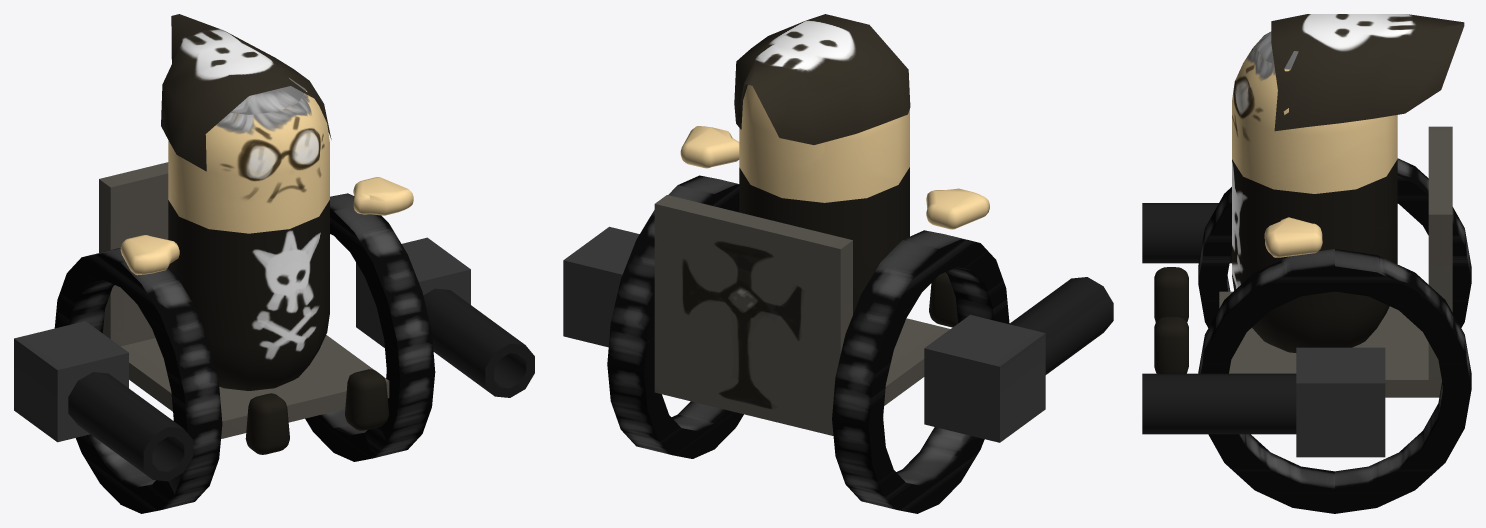
Rendered from grandmaCapsule.FBX.
The picture shows the model from 3 angles, left to right: view 1: azimuth 30°, elevation 25°; view 2: azimuth 150°, elevation 25°; view 3: azimuth 270°, elevation 25°; orthographic projection. The views are drawn at different scales.
Parts seen in each view (by area): view 1: Capsule001; view 2: Capsule001; view 3: Capsule001.
Part boxes in pixels (bbox=[...]): Capsule001: bbox=[14, 14, 534, 513]; Capsule001: bbox=[563, 14, 1113, 513]; Capsule001: bbox=[1142, 14, 1471, 513].
Bounding box in the file's own units: 177 × 170 × 119.
